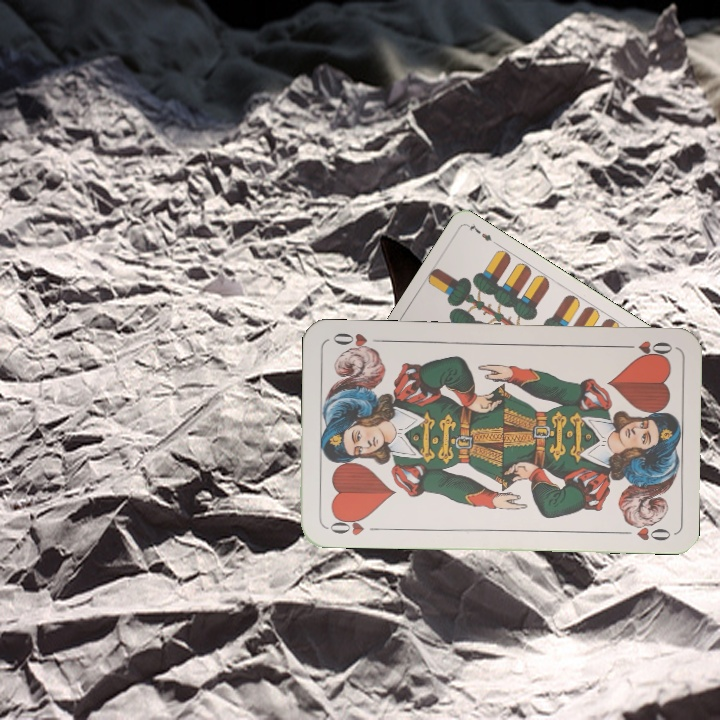HO: (324, 512, 383, 538), (617, 336, 675, 360)
